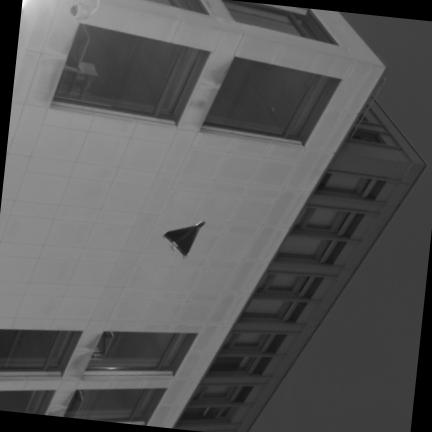Shahed: (163, 222, 204, 257)
